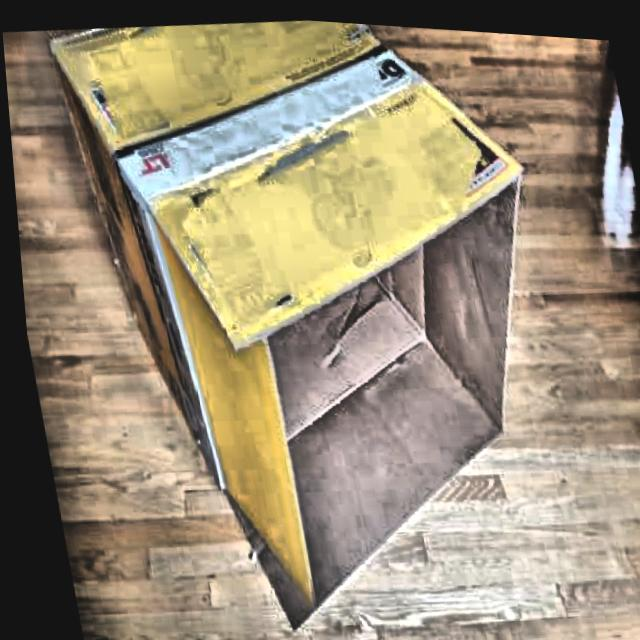Cardbox: (36, 2, 600, 640)
